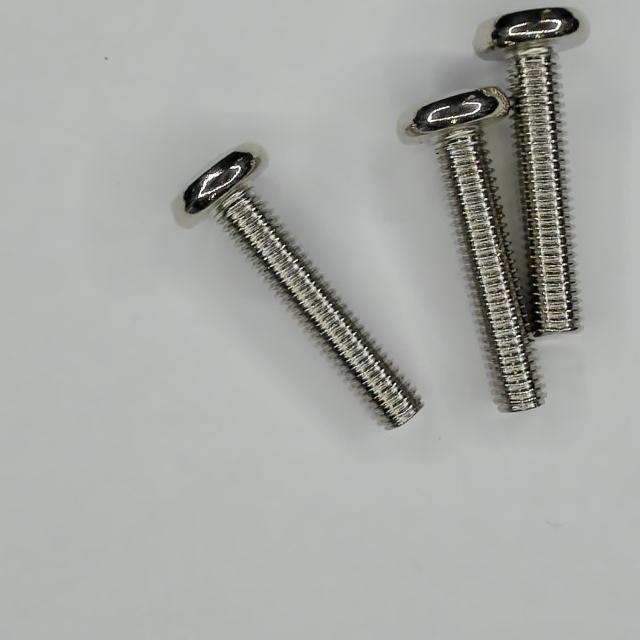Screw: (184, 152, 423, 428), (408, 86, 544, 412), (476, 7, 590, 335)
